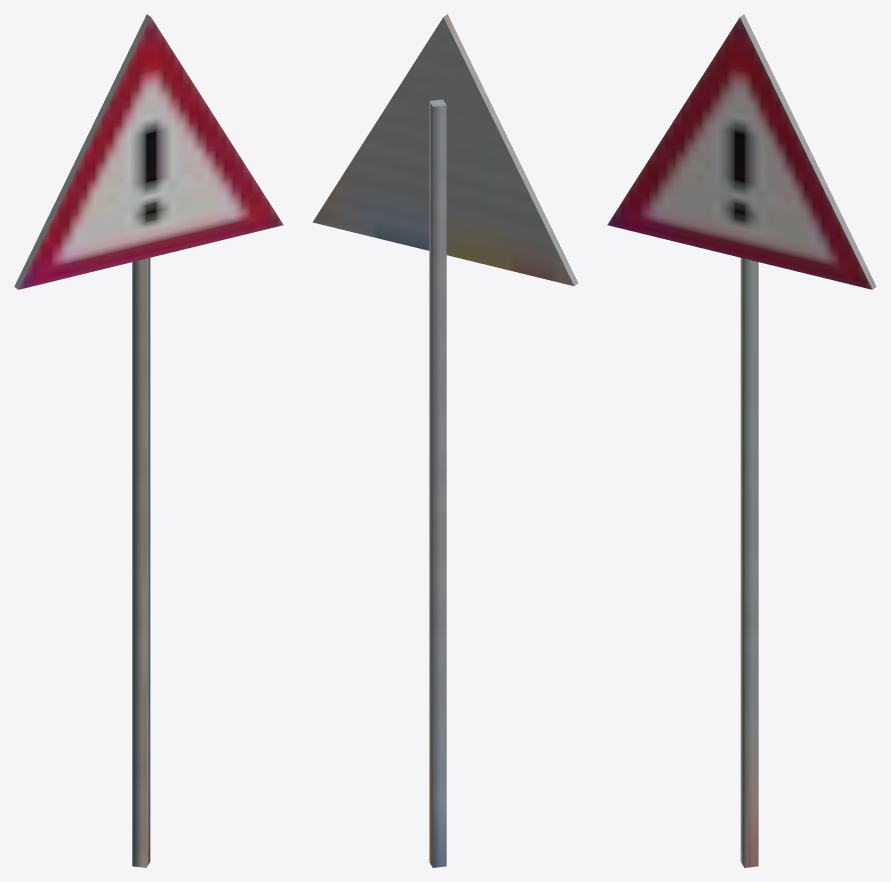
File: panneau_danger_lod2.glb
3 views of the same model, side by side, from view 1: azimuth 30°, elevation 25°; view 2: azimuth 150°, elevation 25°; view 3: azimuth 330°, elevation 25° (orthographic).
Parts seen in each view (by area): view 1: panneau_danger; view 2: panneau_danger; view 3: panneau_danger.
Part boxes in pixels (x1,y1,x2,y2): panneau_danger: [14, 14, 283, 867]; panneau_danger: [312, 14, 578, 867]; panneau_danger: [607, 14, 876, 867].
Size of the model in its own units: 0.9 by 2.77 by 0.0875.
Materials: 1 (1 with a texture image).
